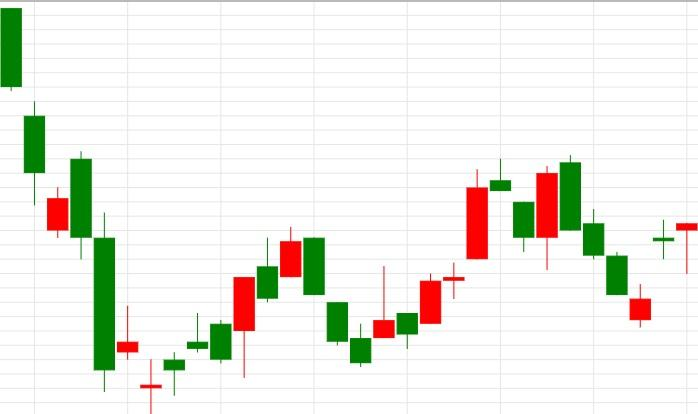evening_star_fall: (349, 158, 536, 367)
three_black_crows_fall: (139, 227, 372, 413)
